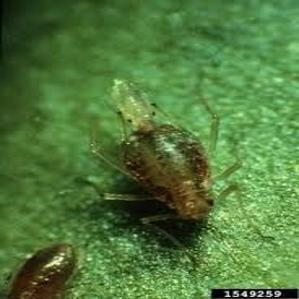Green peach aphid: (65, 67, 275, 266), (0, 230, 104, 299)
